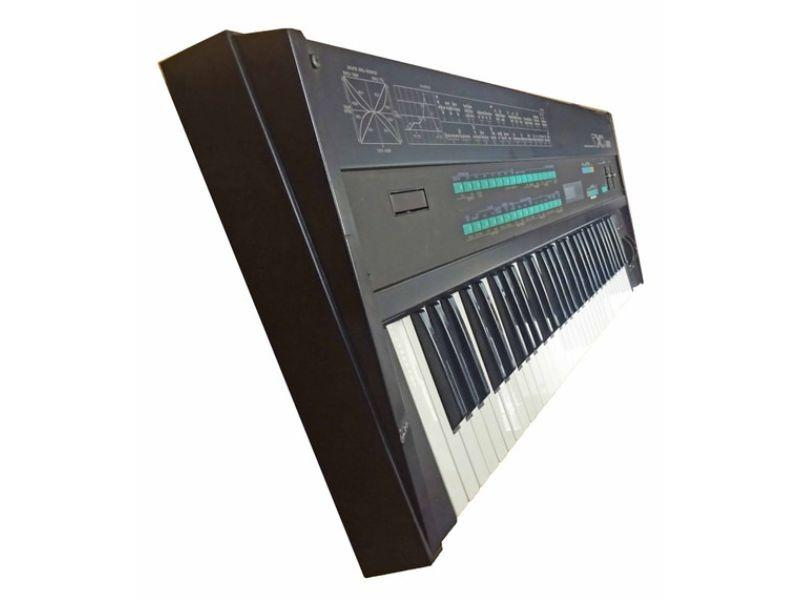synthesizer: (149, 17, 673, 577)
